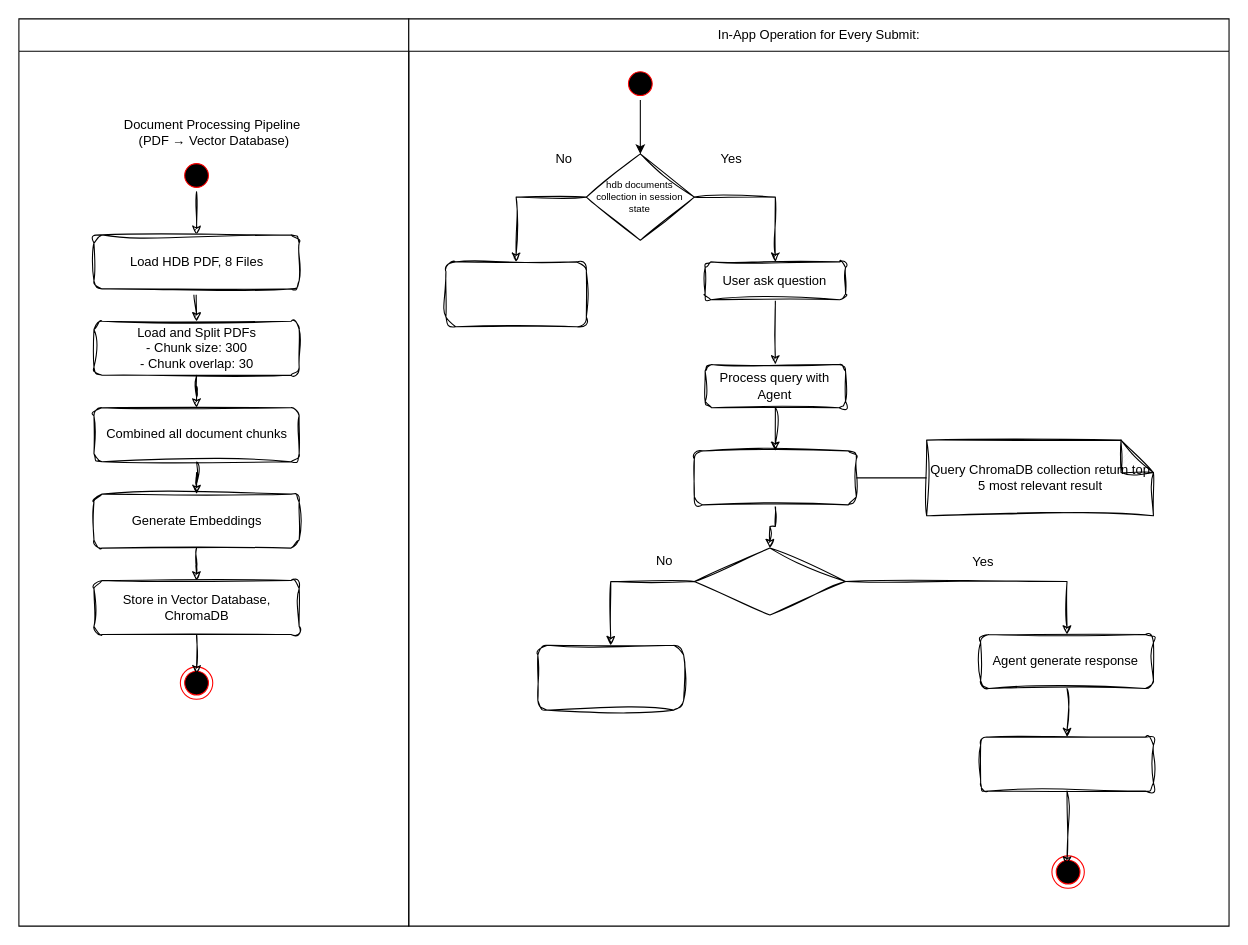
This 1248x945 diagram has some shape labels left out. Here are the shapes that lost their labels. From the top down, the box of each, then its label:
(445, 261, 586, 327): Load from ChromaDB Store in session state
(18, 18, 409, 926): One-off Operation:
(693, 450, 856, 505): Agent calls get_answer tool
(693, 547, 846, 615): Relevant info found?
(537, 644, 684, 710): Return: Please contact HDB for assistance
(980, 736, 1153, 791): Display response to user
